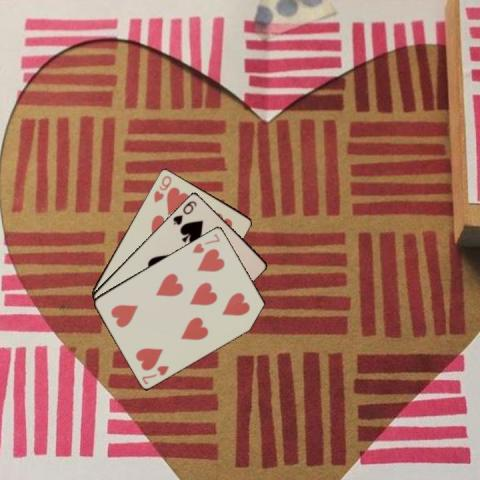6s: (170, 197, 198, 226)
7h: (190, 230, 222, 255), (139, 362, 170, 385)
9h: (151, 172, 172, 204)
